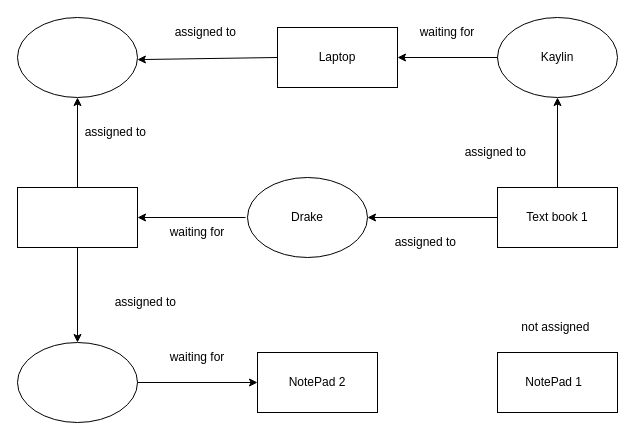
This 635x440 diagram has some shape labels left out. Each missing label, with the centre of its shape:
"Alvin" goes at (x=77, y=382).
"Joe" goes at (x=77, y=57).
"Text book 2" goes at (x=77, y=217).
